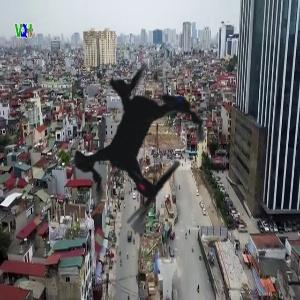drone: (18, 22, 267, 271)
